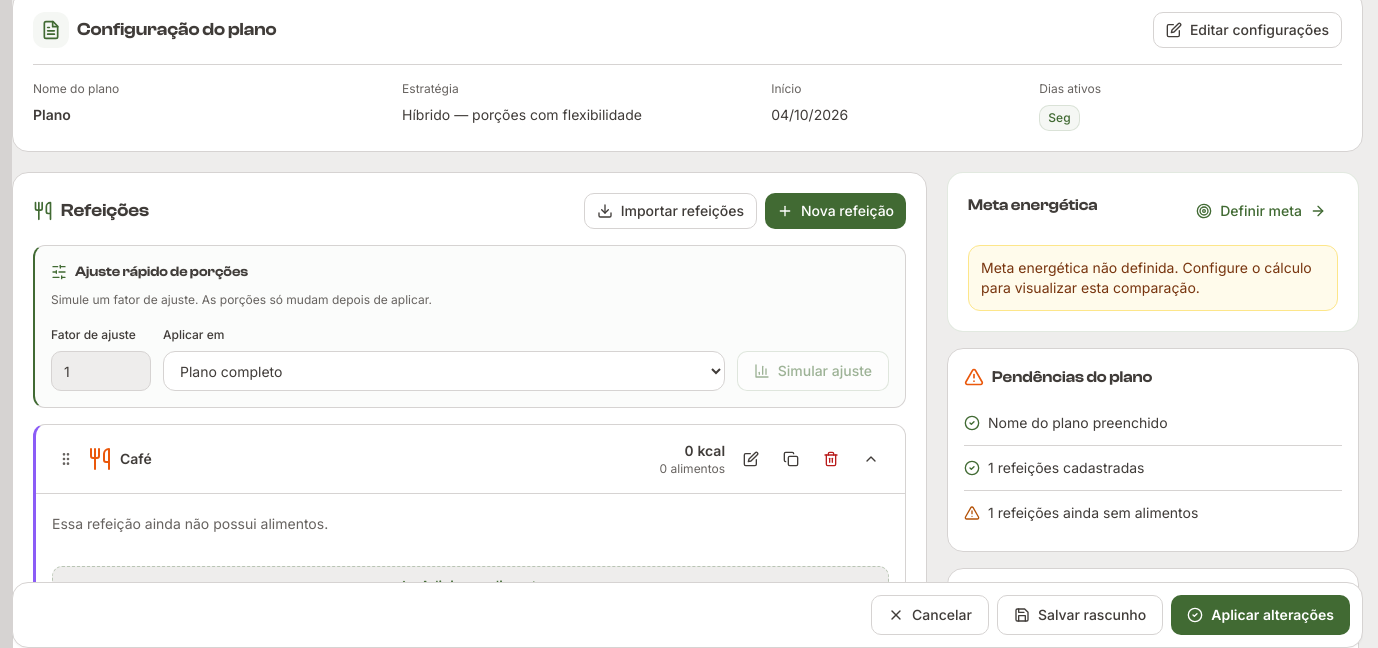
Test: explains the existing server requirement for unfinished meals before publishing
The image size is (1378, 648).
Click the button "Aplicar alterações": (1261, 615) [1171,595,1350,635]
(page scrolled)
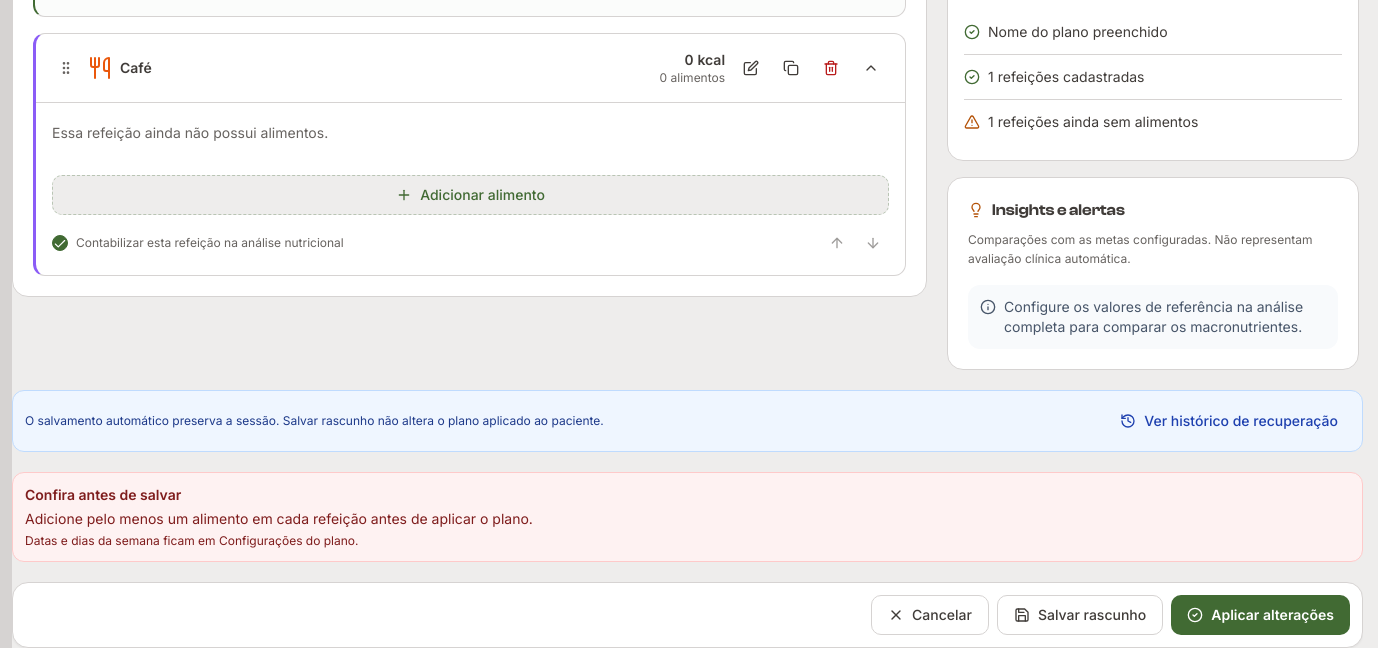
Expected: the message shows "Adicione pelo menos um alimento em cada refeição", [25,510,533,527]
